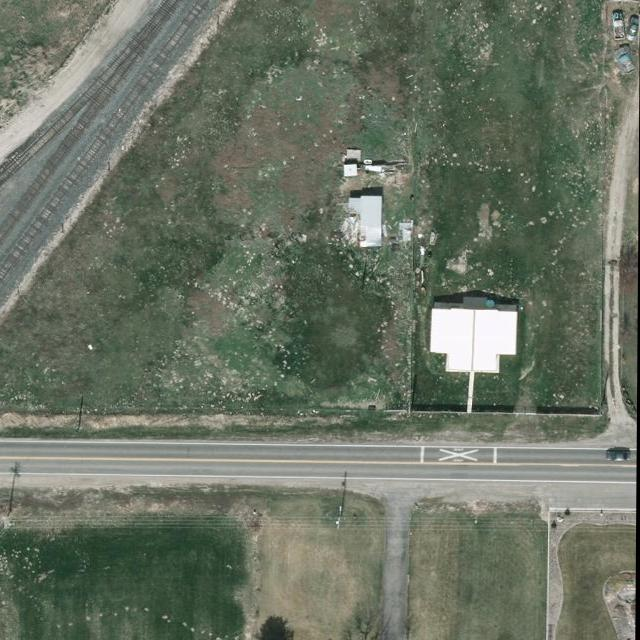vehicle: (615, 46, 636, 76), (612, 12, 626, 40), (606, 448, 634, 462), (626, 17, 640, 42)
